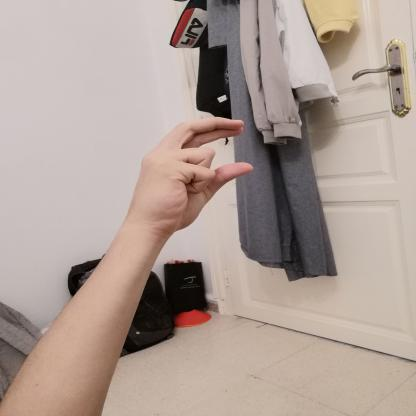DHELL: (126, 110, 264, 237)
